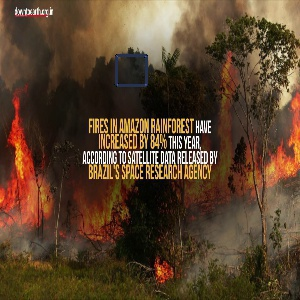square: (113, 53, 150, 89)
